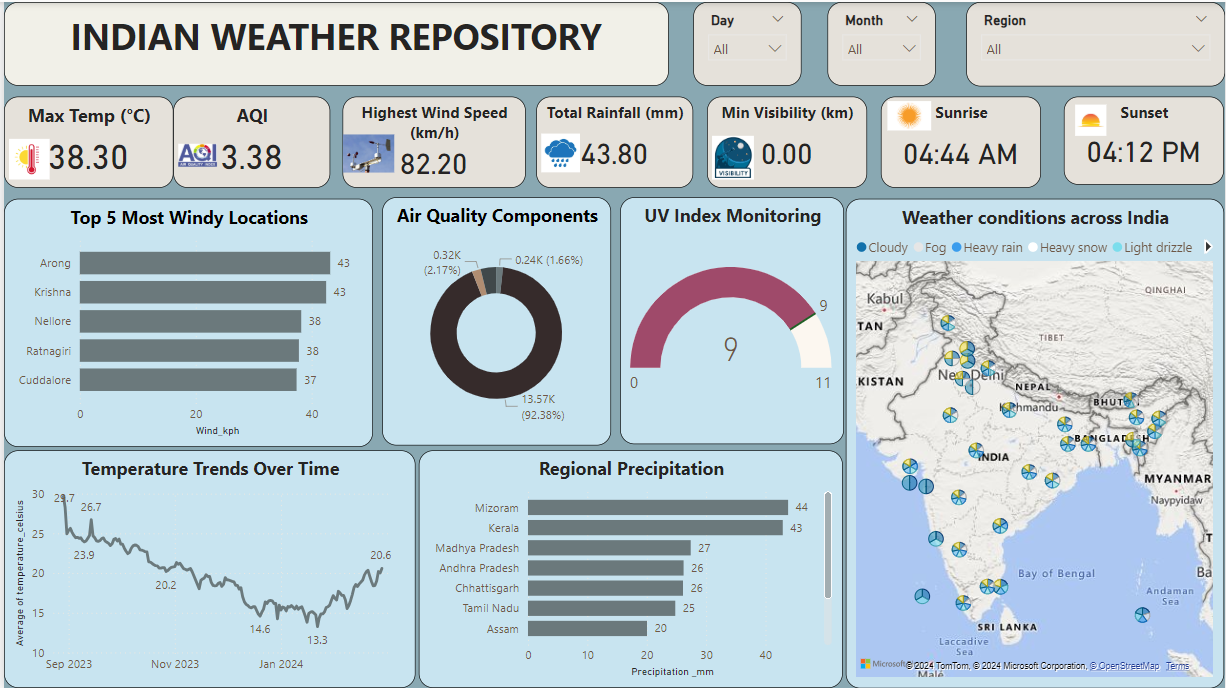

Layout of this report page (visuals, bound fields, positions):
{"tool":"powerbi","page":{"name":"Page 1","canvas":[1280,720],"ordinal":0},"visuals":[{"type":"map","title":"Weather conditions across India","fields":{"Category":["IndianWeatherRepository.region"],"Y":["Avg(IndianWeatherRepository.latitude)"],"X":["Avg(IndianWeatherRepository.longitude)"],"Series":["IndianWeatherRepository.condition_text"]},"box":[882.7,206.3,396.6,513.3],"z":0},{"type":"lineChart","title":"Temperature Trends Over Time","fields":{"Y":["Avg(IndianWeatherRepository.temperature_celsius)"],"Category":["IndianWeatherRepository.last_updated.Variation.Date Hierarchy.Year","IndianWeatherRepository.last_updated.Variation.Date Hierarchy.Quarter","IndianWeatherRepository.last_updated.Variation.Date Hierarchy.Month","IndianWeatherRepository.last_updated.Variation.Date Hierarchy.Day"]},"box":[0,470.1,431.8,249.5],"z":1000},{"type":"barChart","title":"Top 5 Most Windy Locations","fields":{"Category":["IndianWeatherRepository.location_name"],"Y":["Max(IndianWeatherRepository.wind_kph)"]},"box":[0,206.3,387,260],"z":2000},{"type":"gauge","title":"UV Index Monitoring","fields":{"Y":["Max(IndianWeatherRepository.uv_index)"]},"box":[646,204.7,235.1,259.1],"z":3000},{"type":"donutChart","title":"Air Quality Components","fields":{"Y":["Max(IndianWeatherRepository.air_quality_Ozone)","Max(IndianWeatherRepository.air_quality_Carbon_Monoxide)","Max(IndianWeatherRepository.air_quality_Nitrogen_dioxide)","Max(IndianWeatherRepository.air_quality_Sulphur_dioxide)"]},"box":[396.6,204.7,240,260.7],"z":4000},{"type":"clusteredBarChart","title":" Regional Precipitation","fields":{"Category":["IndianWeatherRepository.region"],"Y":["Max(IndianWeatherRepository.precip_mm)"]},"box":[435,470.1,444.6,249.5],"z":5000},{"type":"card","title":"Max Temp (°C)","fields":{"Values":["Max(IndianWeatherRepository.temperature_celsius)"]},"box":[0,99.1,177.5,95.9],"z":6000},{"type":"card","title":"AQI","fields":{"Values":["Avg(IndianWeatherRepository.air_quality_us-epa-index)"]},"box":[177.5,99.1,164.7,95.9],"z":7000},{"type":"card","title":"Highest Wind Speed (km/h)","fields":{"Values":["Max(IndianWeatherRepository.gust_kph)"]},"box":[355,99.1,191.9,95.9],"z":8000},{"type":"card","title":"Total Rainfall (mm)","fields":{"Values":["Max(IndianWeatherRepository.precip_mm)"]},"box":[558.1,99.1,164.7,95.9],"z":9000},{"type":"card","title":"Min Visibility (km)","fields":{"Values":["Min(IndianWeatherRepository.visibility_km)"]},"box":[737.2,99.1,167.9,95.9],"z":10000},{"type":"slicer","fields":{"Values":["IndianWeatherRepository.region"]},"box":[1008.7,0,271.2,88.3],"z":11000},{"type":"textbox","box":[0,0,697.2,88],"z":13000},{"type":"card","title":"Sunrise","fields":{"Values":["Min(IndianWeatherRepository.sunrise)"]},"box":[919.5,99.1,167.9,95.9],"z":14000},{"type":"card","title":"Sunset","fields":{"Values":["Min(IndianWeatherRepository.sunset)"]},"box":[1111.4,99.1,167.9,92.7],"z":15000},{"type":"slicer","fields":{"Values":["IndianWeatherRepository.Date.Variation.Date Hierarchy.Month"]},"box":[863.5,0,113.5,88],"z":16000},{"type":"slicer","fields":{"Values":["IndianWeatherRepository.Date.Variation.Date Hierarchy.Day"]},"box":[722.8,0,113.5,88],"z":17000},{"type":"image","box":[737.2,131.1,54.4,64],"z":17001},{"type":"image","box":[350.2,123.1,64,72],"z":17002},{"type":"image","box":[177.5,137.5,51.2,46.4],"z":17003},{"type":"image","box":[0,134.3,52.8,60.8],"z":17004},{"type":"image","box":[921.1,92.7,56,52.8],"z":17005},{"type":"image","box":[1111.4,102.3,56,43.2],"z":17006},{"type":"image","box":[558.1,132.7,51.2,51.2],"z":17007}]}

Visuals, with their boxes in screenshot pixels (x1, y1, x2, y2), scaled from the page's 1280x720 canvas onto the 1226x688 screenshot:
"Weather conditions across India" map: {"x1": 845, "y1": 197, "x2": 1225, "y2": 687}
"Temperature Trends Over Time" lineChart: {"x1": 0, "y1": 449, "x2": 414, "y2": 687}
"Top 5 Most Windy Locations" barChart: {"x1": 0, "y1": 197, "x2": 371, "y2": 446}
"UV Index Monitoring" gauge: {"x1": 619, "y1": 196, "x2": 844, "y2": 443}
"Air Quality Components" donutChart: {"x1": 380, "y1": 196, "x2": 610, "y2": 445}
" Regional Precipitation" clusteredBarChart: {"x1": 417, "y1": 449, "x2": 842, "y2": 687}
"Max Temp (°C)" card: {"x1": 0, "y1": 95, "x2": 170, "y2": 186}
"AQI" card: {"x1": 170, "y1": 95, "x2": 328, "y2": 186}
"Highest Wind Speed (km/h)" card: {"x1": 340, "y1": 95, "x2": 524, "y2": 186}
"Total Rainfall (mm)" card: {"x1": 535, "y1": 95, "x2": 692, "y2": 186}
"Min Visibility (km)" card: {"x1": 706, "y1": 95, "x2": 867, "y2": 186}
slicer - IndianWeatherRepository.region: {"x1": 966, "y1": 0, "x2": 1225, "y2": 84}
textbox: {"x1": 0, "y1": 0, "x2": 668, "y2": 84}
"Sunrise" card: {"x1": 881, "y1": 95, "x2": 1042, "y2": 186}
"Sunset" card: {"x1": 1065, "y1": 95, "x2": 1225, "y2": 183}
slicer - IndianWeatherRepository.Date.Variation.Date Hierarchy.Month: {"x1": 827, "y1": 0, "x2": 936, "y2": 84}
slicer - IndianWeatherRepository.Date.Variation.Date Hierarchy.Day: {"x1": 692, "y1": 0, "x2": 801, "y2": 84}
image: {"x1": 706, "y1": 125, "x2": 758, "y2": 186}
image: {"x1": 335, "y1": 118, "x2": 397, "y2": 186}
image: {"x1": 170, "y1": 131, "x2": 219, "y2": 176}
image: {"x1": 0, "y1": 128, "x2": 51, "y2": 186}
image: {"x1": 882, "y1": 89, "x2": 936, "y2": 139}
image: {"x1": 1065, "y1": 98, "x2": 1118, "y2": 139}
image: {"x1": 535, "y1": 127, "x2": 584, "y2": 176}
